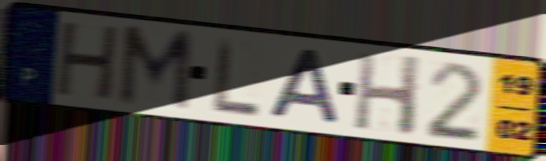2: (425, 59, 483, 143)
A: (267, 46, 344, 127)
H: (350, 50, 425, 139), (52, 20, 124, 104)
L: (212, 34, 263, 118)
M: (114, 23, 197, 116)
